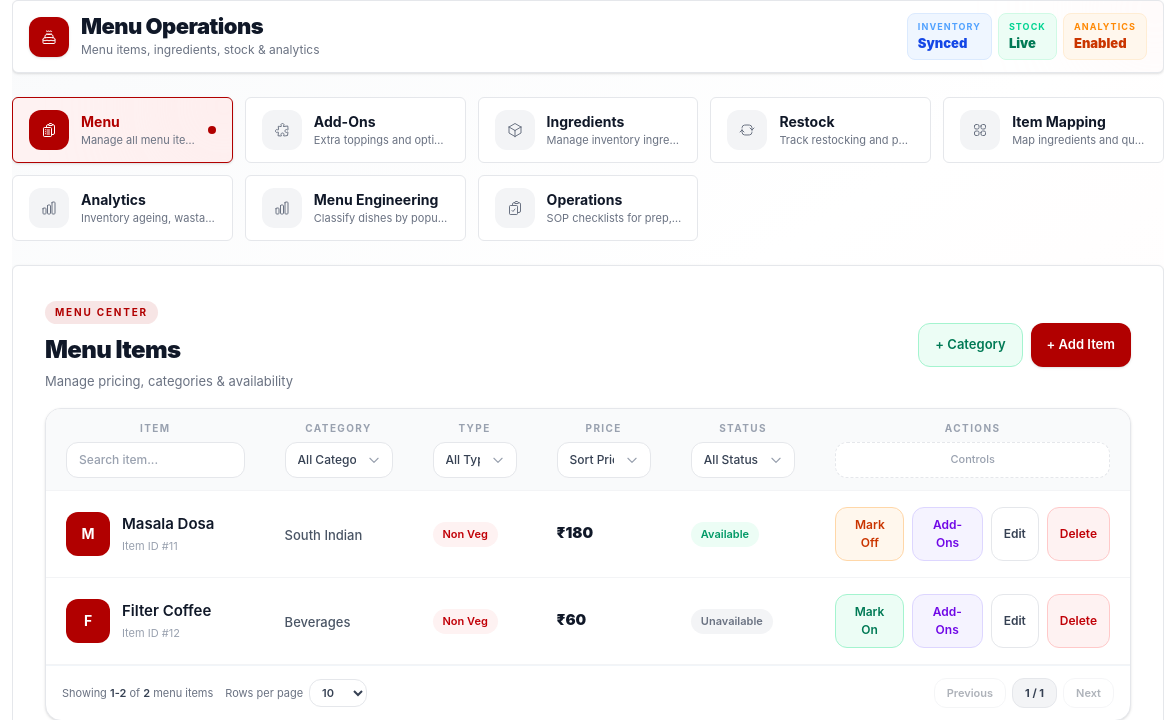
it: Menu Management — characterisation › renders the mapping tab's own content
Expected: the heading "Menu Operations" is shown, [81,12,263,38]
What coordinates should you click on to do the following:
click the button "Item Mapping"
I would click on:
 (1054, 130)
Its box is [943,97,1164,163].
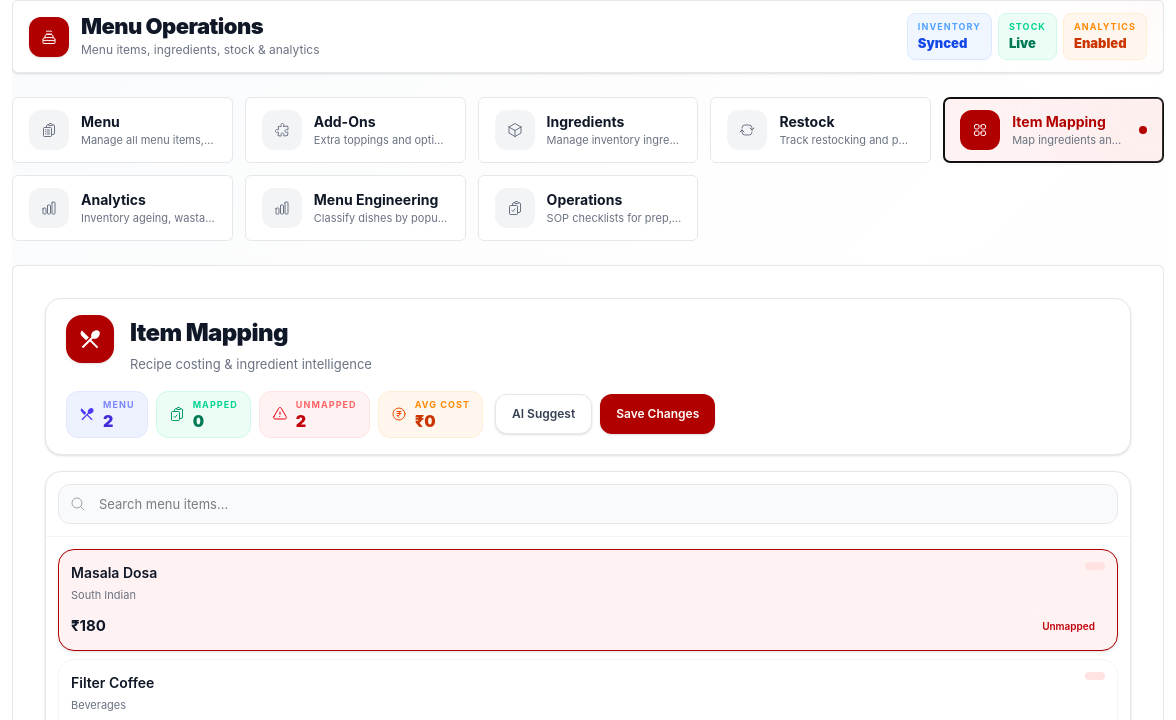
Expected: the text "Recipe costing & ingredient intelligence" is shown, [130,355,372,374]
